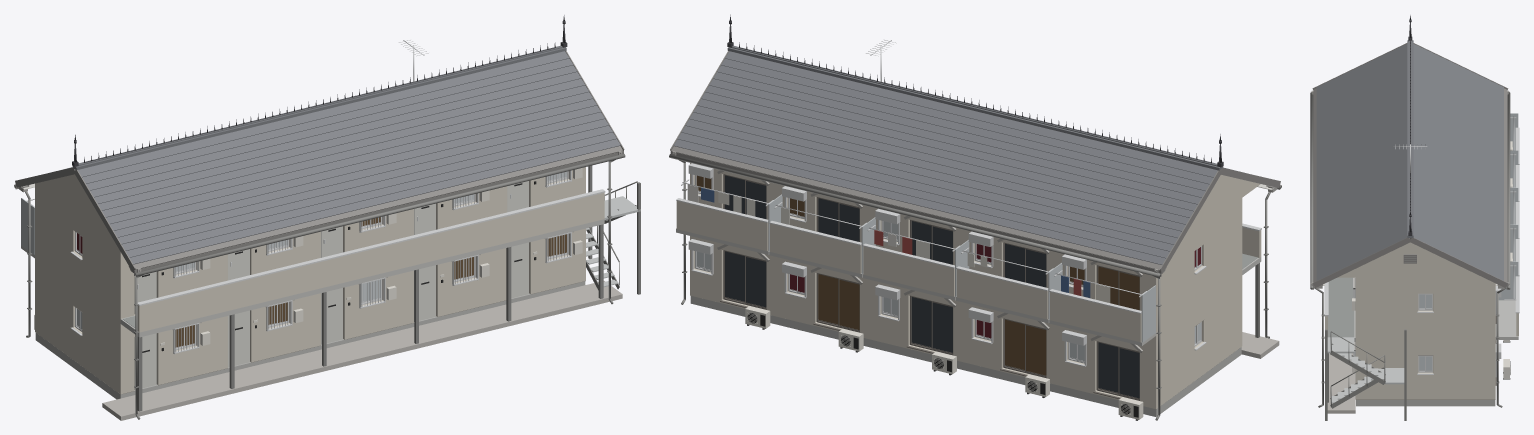
File: blk_southhomes.glb
3 views of the same model, side by side, from view 1: azimuth 30°, elevation 25°; view 2: azimuth 150°, elevation 25°; view 3: azimuth 270°, elevation 25° (orthographic). The views are drawn at different scales.
Visible parts, largest first — view 1: blk_southhomes; view 2: blk_southhomes; view 3: blk_southhomes.
Part boxes in pixels (x1,y1,x2,y2): blk_southhomes: (14,15,640,420); blk_southhomes: (669,14,1281,420); blk_southhomes: (1310,15,1519,420).
Bounding box in the file's own units: 20.13 × 9.36 × 8.58.
